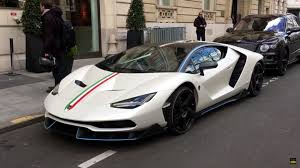Lamborghini: (68, 38, 216, 137)
